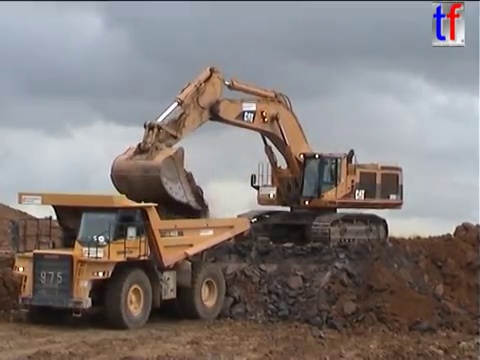excavator: (107, 63, 405, 255)
truck: (7, 190, 253, 332)
